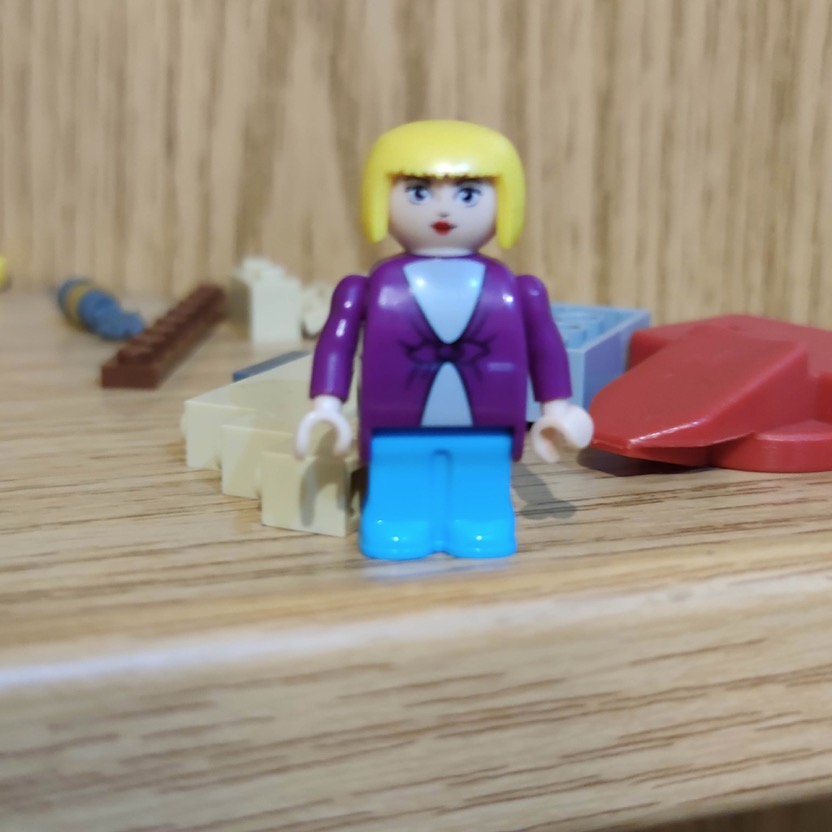lego: (293, 120, 597, 559)
